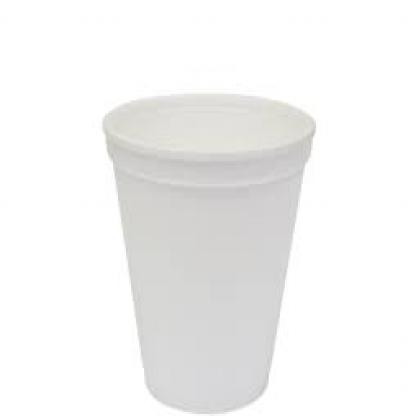paper: (100, 92, 313, 410)
